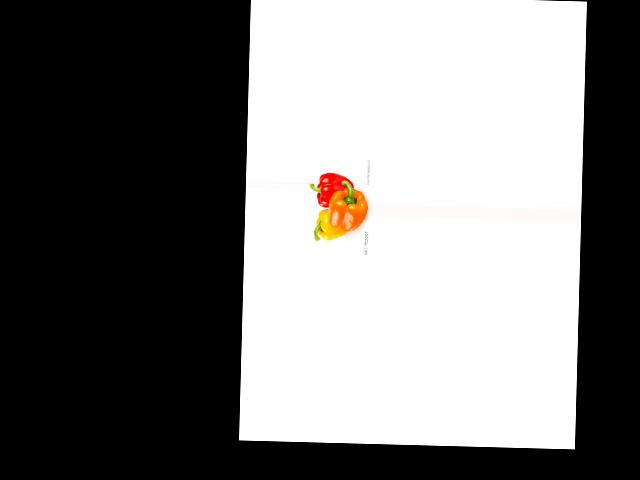bell_pepper: (311, 207, 349, 243)
